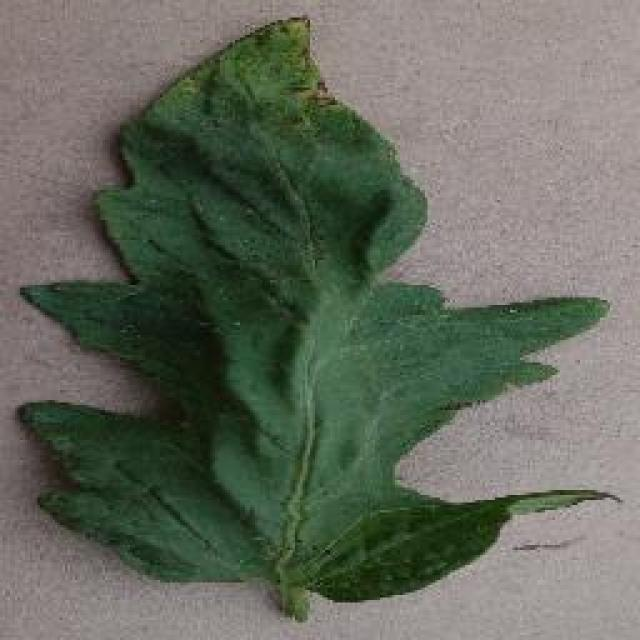Tomato___Bacterial_spot: (10, 20, 630, 621)
